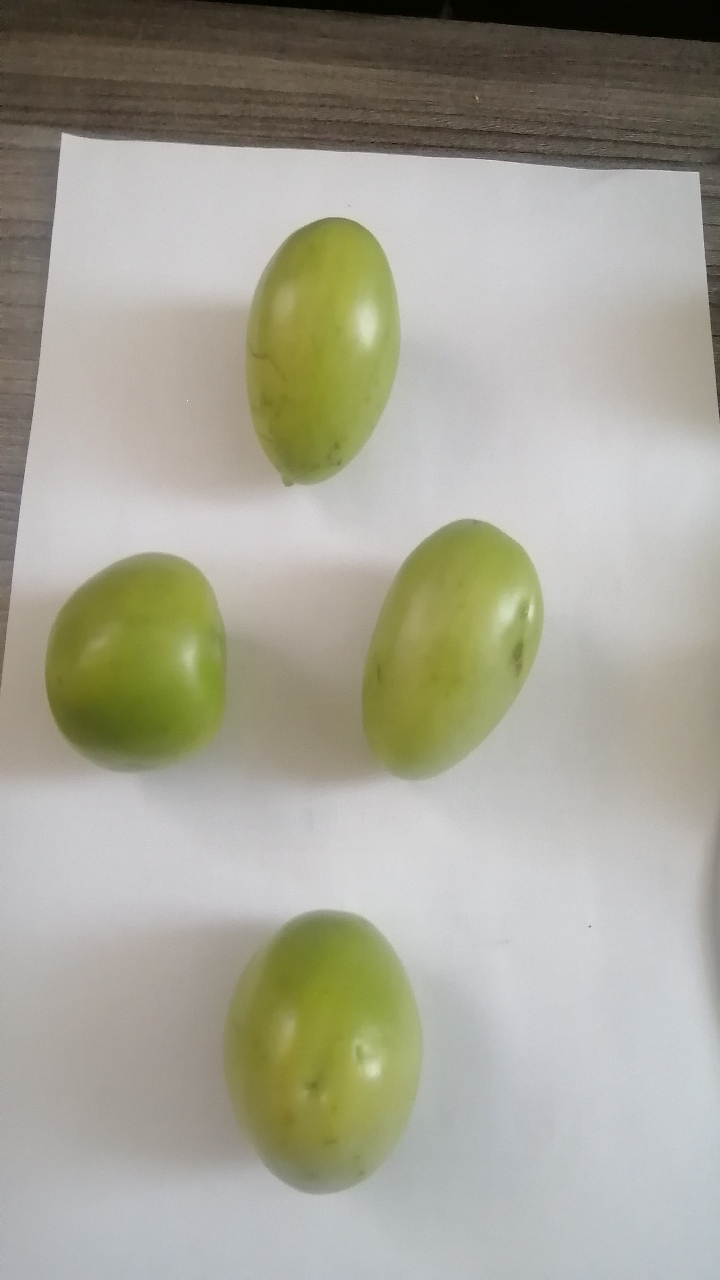tomateVerde: (326, 509, 568, 819), (208, 883, 424, 1214), (221, 202, 421, 523), (31, 520, 255, 805)
